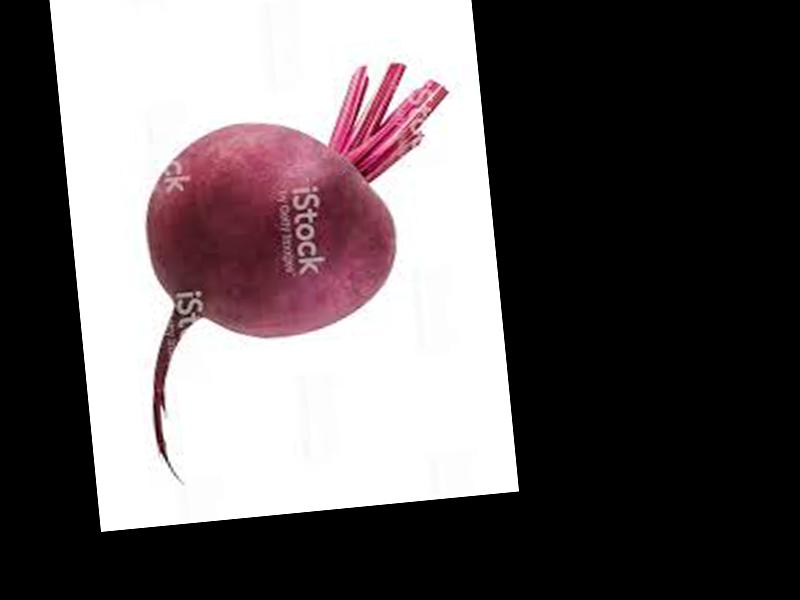Beet: (124, 57, 482, 485)
